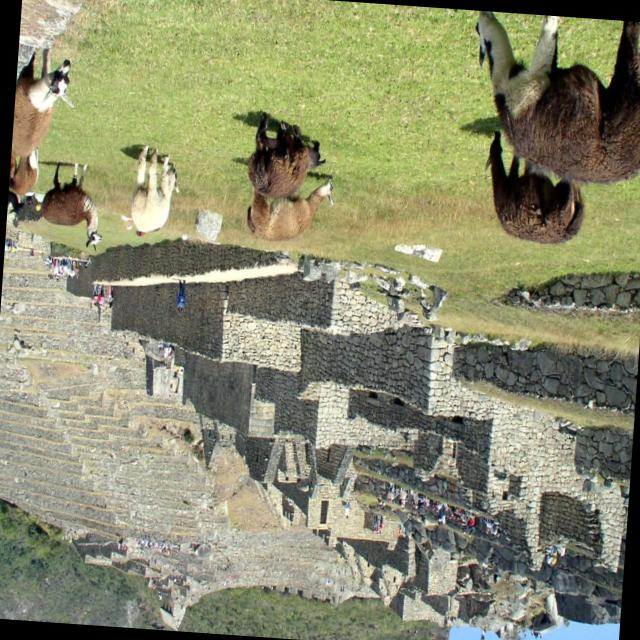alpaca: (464, 10, 640, 186), (480, 131, 590, 243), (11, 36, 79, 156), (247, 111, 329, 202), (247, 171, 336, 246), (40, 160, 106, 252), (129, 143, 182, 234), (8, 144, 41, 196), (6, 171, 27, 226)
